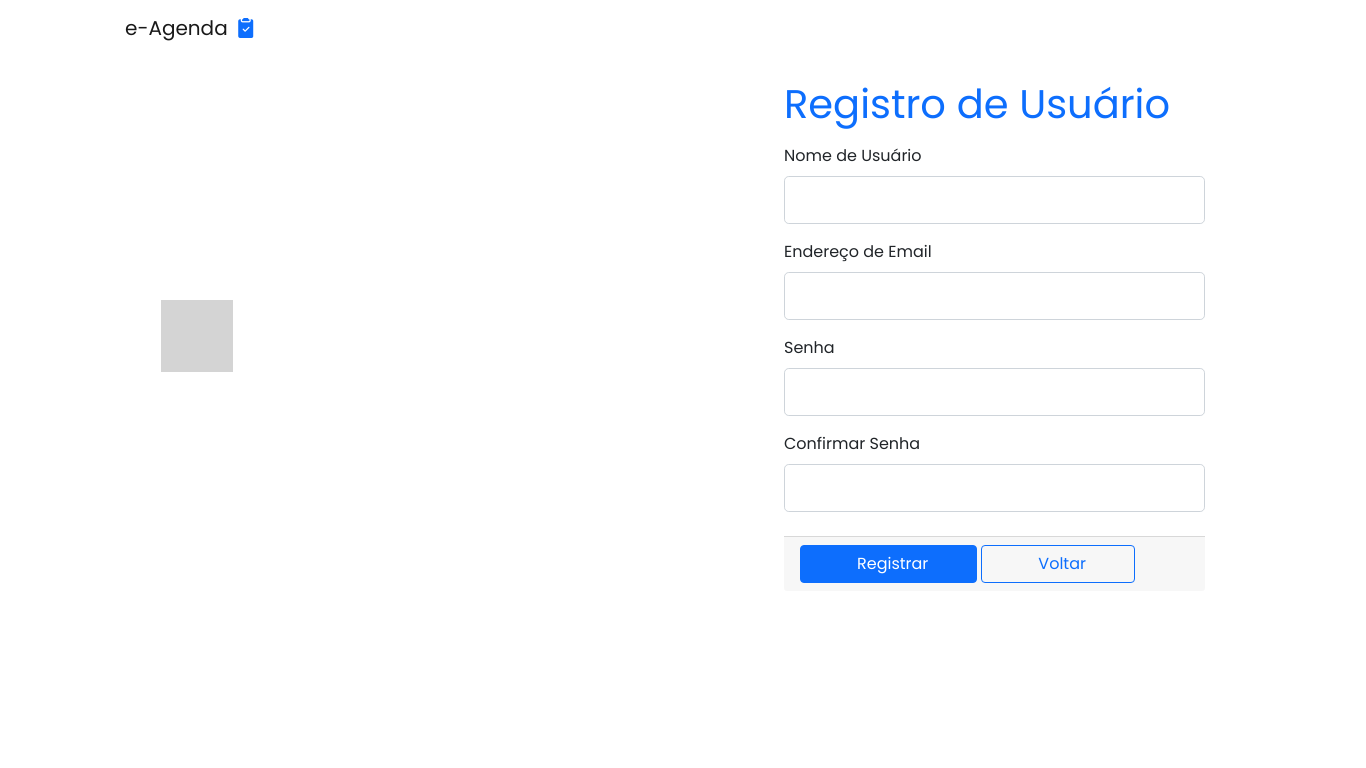
alguma coisa › Deve - Notificar sobre usuário inválido
In the field with test id "nome": (995, 200) [784,176,1205,224], type "Cy"
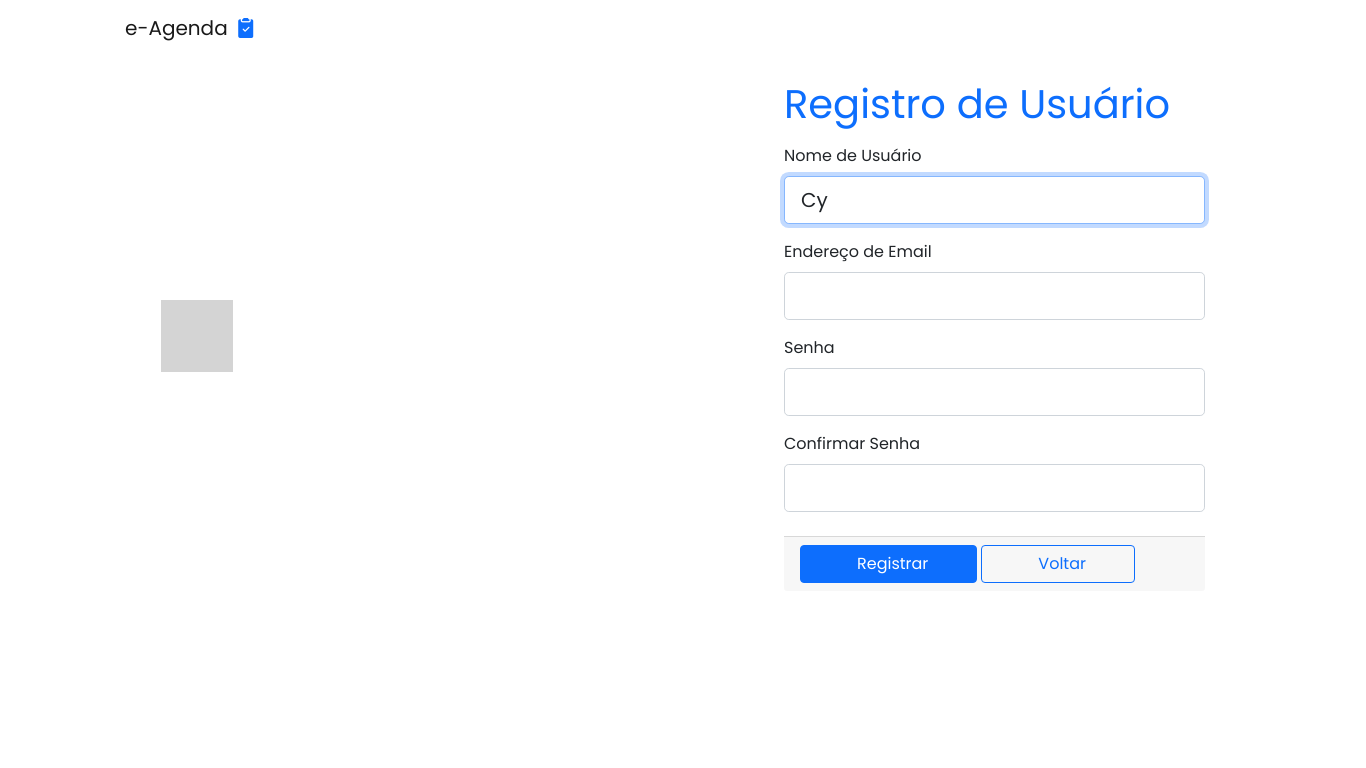
In the field with test id "email": (995, 296) [784,272,1205,320], type "cypress@g.com"
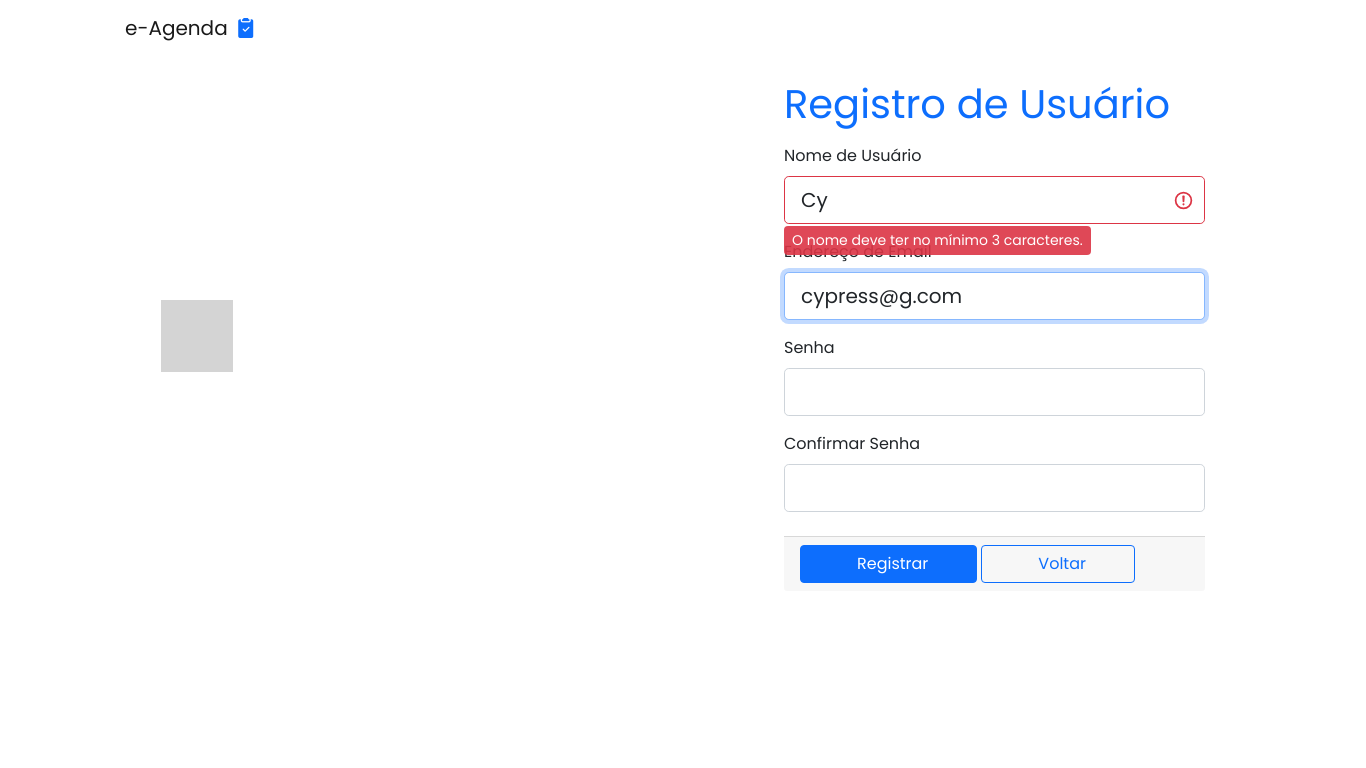
In the password field with test id "senha": (995, 392) [784,368,1205,416], type "123&abcABC"
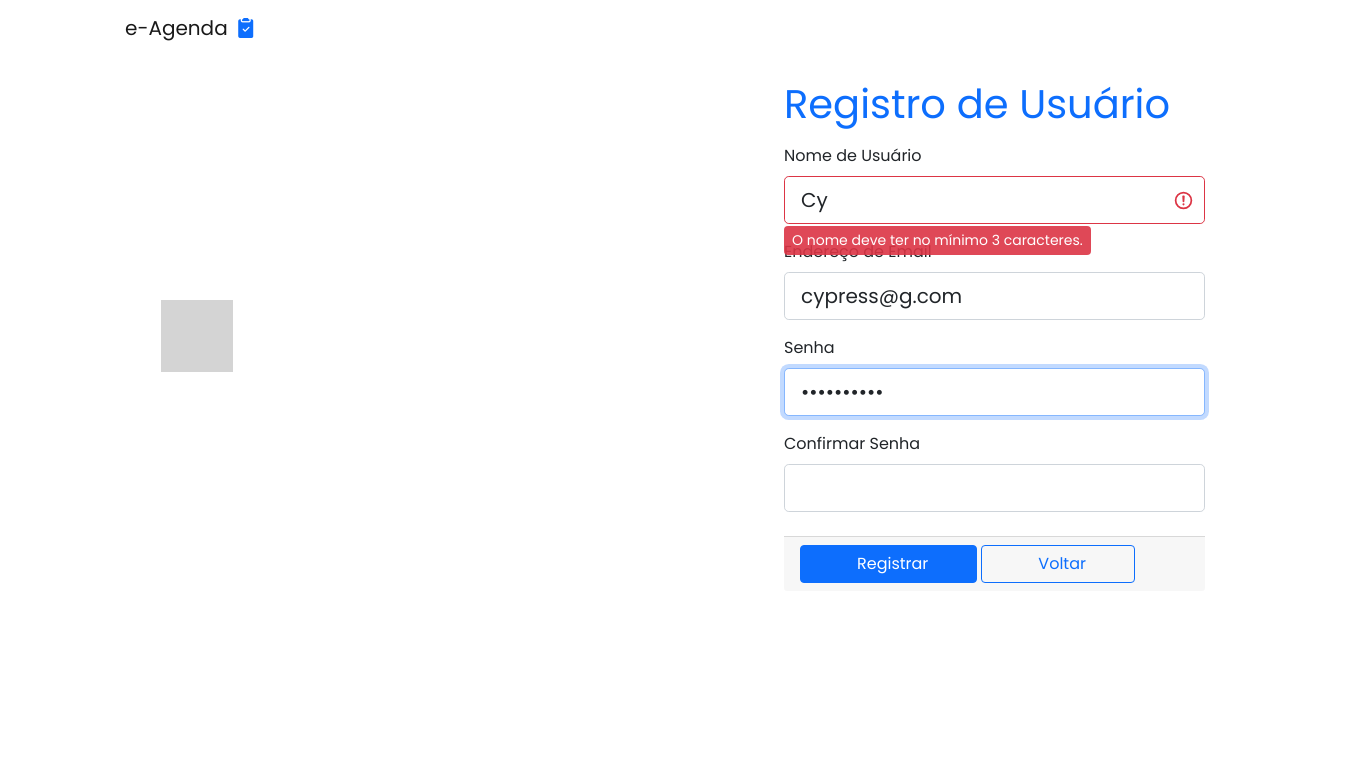
In the password field with test id "confirmarSenha": (995, 488) [784,464,1205,512], type "123&abcABC"
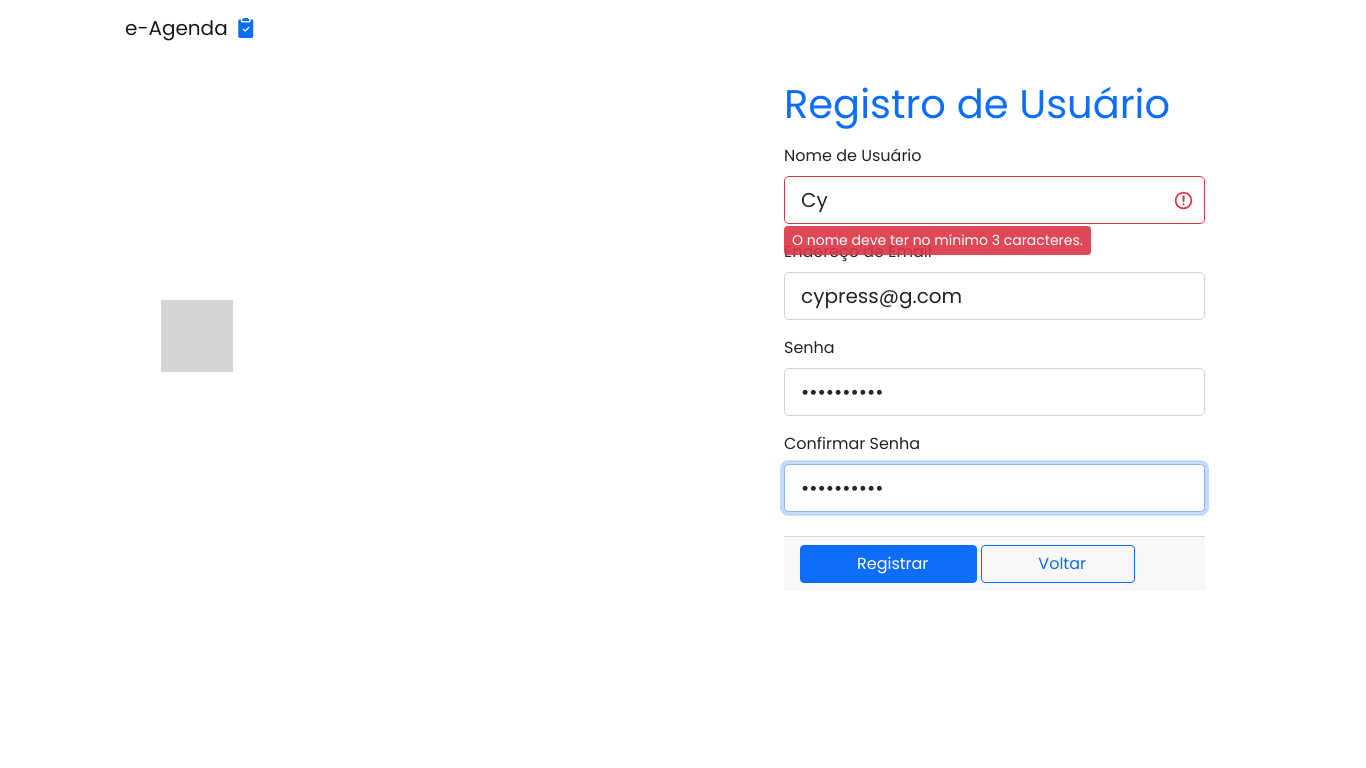
Click the button with test id "btnRegistrar": (889, 564) [800,545,977,583]
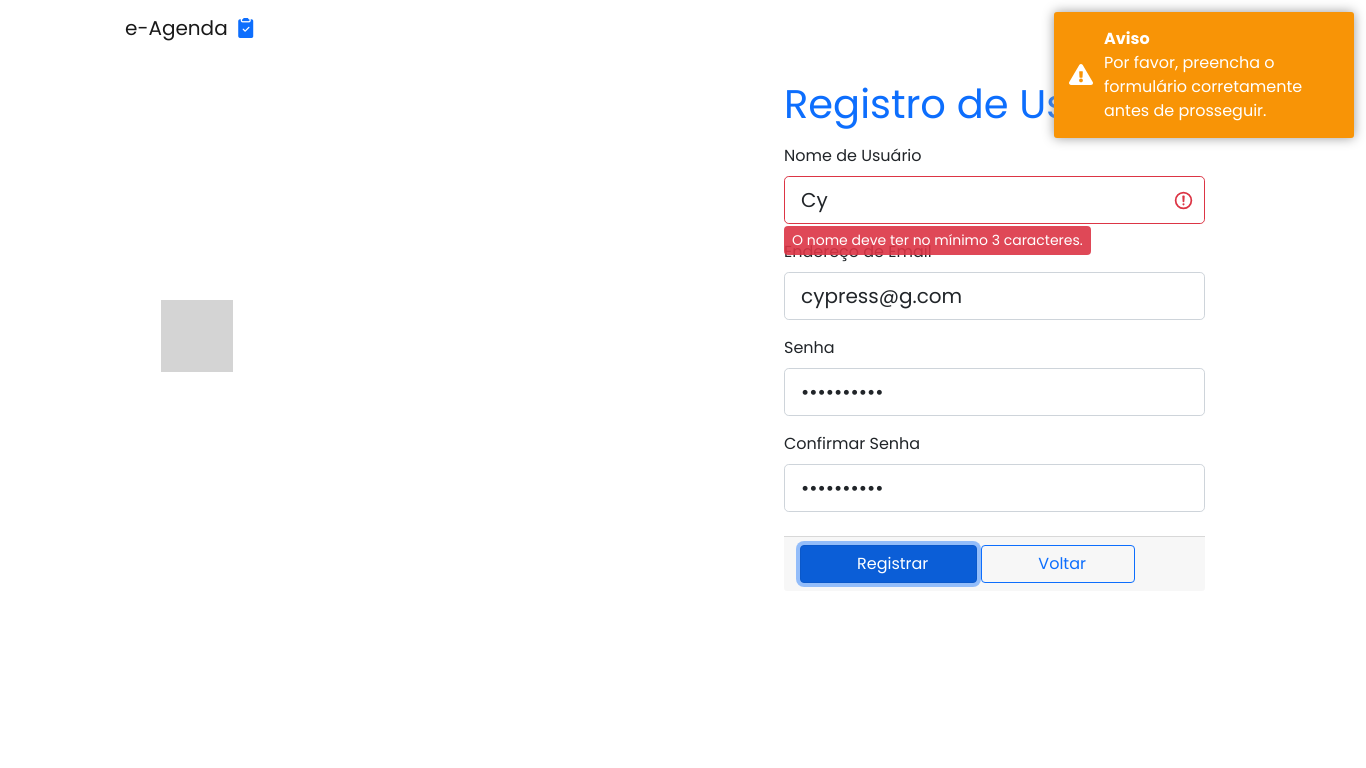
Check: the text "Por favor, preencha o formulário corretamente antes de prosseguir." is shown, box [1104,51,1302,122]
